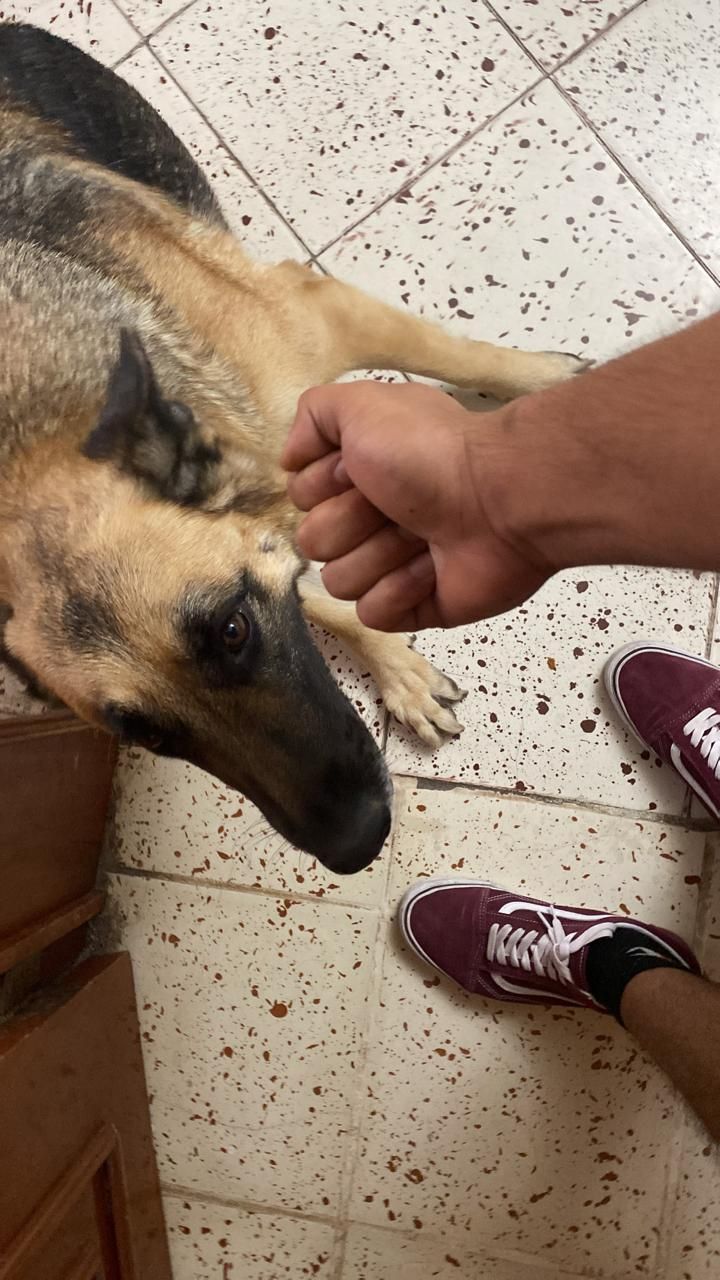Stone: (243, 340, 570, 663)
